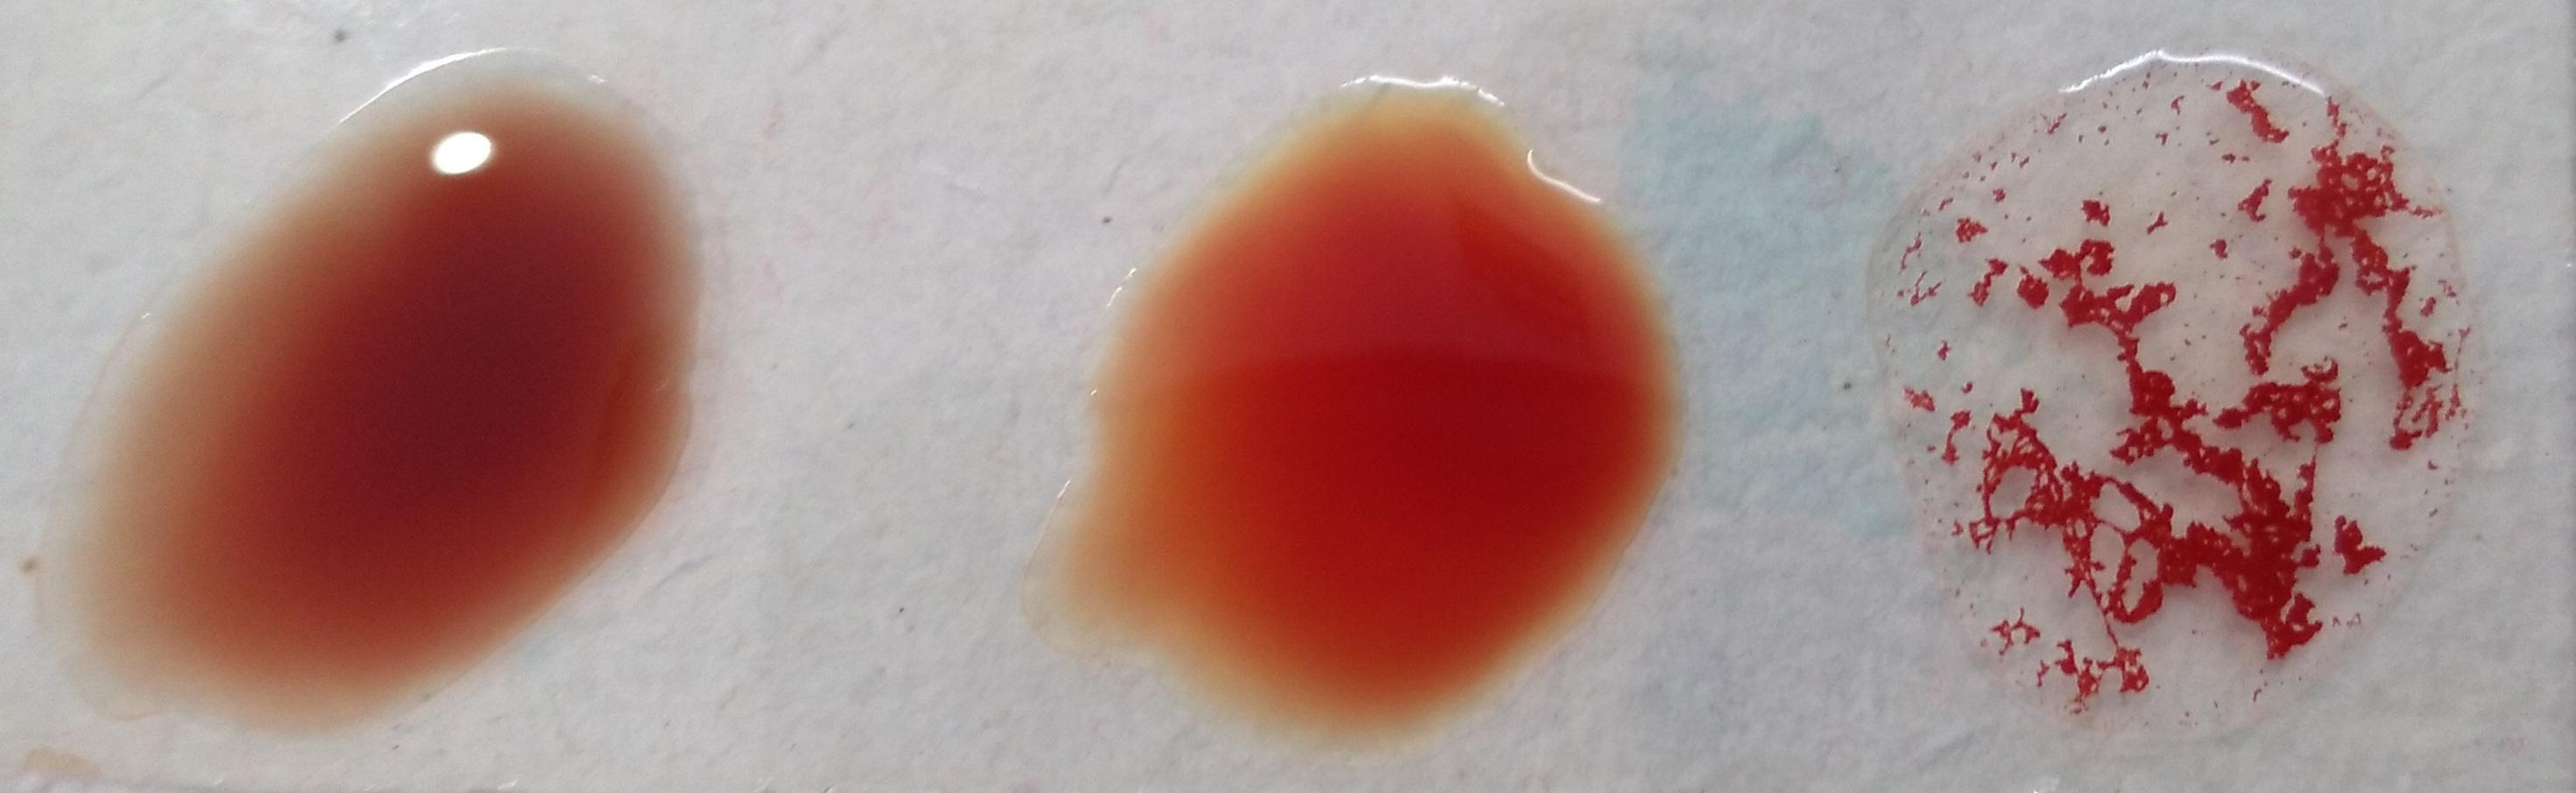D: (1893, 64, 2469, 737)
